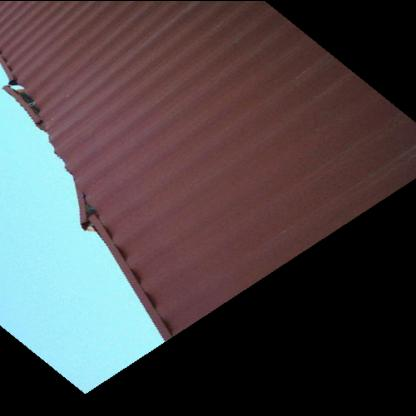Damage: (55, 148, 110, 246), (0, 58, 48, 132)
